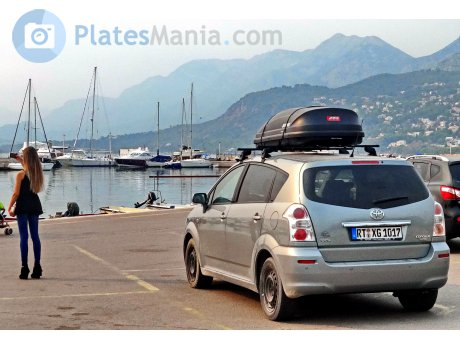License Plates: (353, 223, 399, 235)
